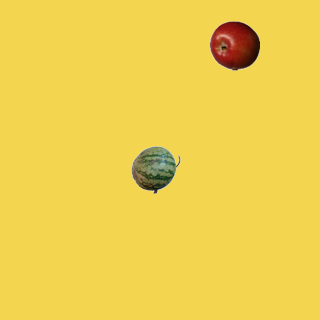Apple Braeburn: (209, 20, 259, 70)
Watermelon: (130, 144, 180, 194)
